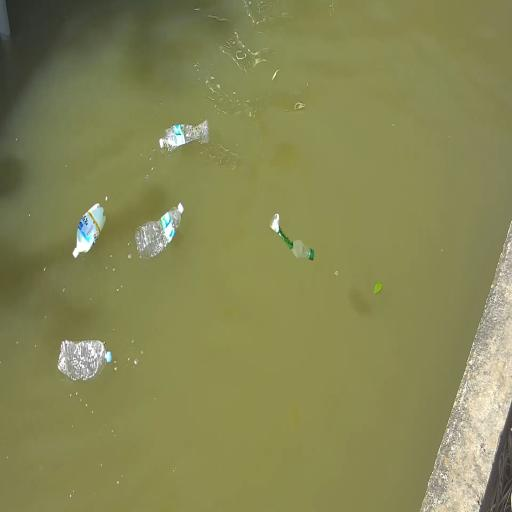plastic: (135, 202, 184, 259), (58, 340, 111, 381), (271, 214, 314, 260), (73, 204, 105, 257), (159, 120, 209, 151)
